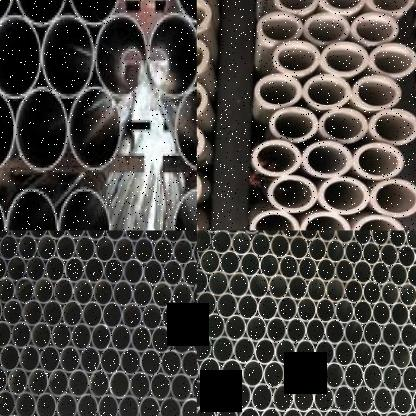pipe: (13, 87, 72, 174), (68, 85, 123, 175), (41, 12, 98, 98), (94, 10, 149, 98), (144, 10, 197, 97), (0, 15, 44, 101), (57, 187, 115, 231), (5, 186, 61, 230), (170, 85, 197, 173), (318, 177, 369, 215), (268, 175, 318, 213), (354, 143, 404, 180), (302, 141, 352, 178), (368, 108, 416, 145), (252, 140, 301, 176), (318, 108, 367, 144), (269, 107, 318, 143), (352, 75, 402, 110), (370, 179, 416, 217), (304, 74, 352, 110), (272, 40, 320, 75), (255, 73, 302, 108), (368, 43, 416, 77), (321, 41, 369, 75), (350, 12, 398, 45), (12, 0, 70, 27), (68, 0, 124, 27), (304, 13, 351, 44), (0, 88, 17, 171), (258, 12, 304, 42), (170, 187, 197, 231), (250, 209, 300, 230), (300, 211, 350, 230), (352, 214, 406, 231), (170, 373, 193, 403), (367, 0, 415, 14), (229, 383, 252, 411), (207, 382, 230, 410), (140, 348, 162, 377), (39, 345, 61, 374), (79, 346, 101, 375), (212, 336, 235, 363), (242, 360, 265, 387), (129, 372, 151, 400), (109, 371, 131, 399), (171, 327, 193, 355), (221, 359, 243, 387), (273, 384, 294, 413), (203, 314, 226, 340), (68, 370, 90, 397), (199, 358, 221, 385), (251, 384, 273, 411), (293, 385, 315, 412), (233, 337, 255, 364), (151, 326, 172, 354), (120, 348, 141, 376), (150, 373, 171, 401), (48, 369, 69, 397), (8, 368, 29, 396), (100, 347, 121, 375), (152, 281, 173, 309), (132, 280, 153, 308), (71, 323, 92, 351), (93, 279, 114, 307), (31, 322, 52, 350), (111, 324, 132, 352), (131, 325, 152, 353), (62, 300, 83, 328), (284, 361, 305, 389), (225, 315, 247, 341), (237, 294, 259, 320), (228, 272, 250, 298), (254, 339, 276, 365), (161, 350, 182, 377), (89, 371, 110, 398), (162, 304, 183, 331), (60, 346, 81, 373), (91, 324, 112, 351), (173, 239, 194, 266), (42, 300, 63, 327), (51, 323, 72, 350), (11, 322, 32, 349), (84, 257, 105, 284), (3, 299, 24, 326), (153, 238, 174, 265), (172, 282, 193, 309), (363, 364, 384, 391), (393, 388, 414, 415), (315, 340, 336, 367), (334, 341, 355, 368), (246, 316, 267, 343), (304, 362, 325, 389), (373, 387, 394, 414), (264, 361, 285, 388), (324, 362, 345, 389), (273, 0, 320, 12), (142, 303, 162, 331), (122, 302, 142, 330), (28, 369, 48, 397), (20, 345, 40, 373), (0, 343, 20, 371), (23, 299, 43, 327), (34, 277, 54, 305), (344, 362, 364, 390), (334, 385, 354, 413), (314, 385, 334, 413), (320, 0, 366, 12), (73, 279, 94, 305), (25, 256, 46, 282), (123, 259, 144, 285), (75, 236, 96, 262), (382, 366, 403, 392), (259, 253, 280, 279), (231, 230, 252, 256), (277, 296, 298, 322), (295, 340, 316, 366), (217, 293, 238, 319), (102, 302, 122, 329), (113, 280, 133, 307), (45, 256, 65, 283), (83, 301, 103, 328), (163, 260, 183, 287), (354, 386, 374, 413), (267, 317, 287, 344), (197, 0, 212, 35), (114, 238, 135, 263), (143, 260, 164, 285), (53, 279, 74, 304), (325, 278, 346, 303), (208, 271, 229, 296), (240, 252, 261, 277), (305, 319, 326, 344), (275, 340, 296, 365), (104, 258, 124, 284), (134, 238, 154, 264), (65, 257, 85, 283), (15, 278, 35, 304), (7, 256, 27, 282), (391, 344, 411, 370), (269, 274, 289, 300), (325, 319, 345, 345), (258, 295, 278, 321), (286, 318, 306, 344), (354, 342, 374, 368), (97, 393, 119, 416), (56, 392, 77, 416), (35, 392, 56, 416), (211, 230, 232, 254), (200, 250, 221, 274), (287, 276, 308, 300), (220, 251, 241, 275), (270, 234, 291, 258), (15, 391, 35, 416), (95, 237, 115, 262), (37, 236, 57, 261), (344, 279, 364, 304), (297, 297, 317, 322), (316, 298, 336, 323), (249, 274, 269, 299), (197, 292, 217, 317), (298, 256, 318, 281), (390, 302, 410, 327), (251, 232, 271, 257), (18, 235, 37, 261), (373, 343, 392, 369), (363, 321, 382, 347), (345, 320, 364, 346), (382, 322, 401, 348), (0, 234, 18, 261), (76, 393, 97, 416), (197, 36, 209, 76), (279, 255, 299, 279), (326, 239, 346, 263), (57, 236, 76, 261), (381, 281, 400, 306), (354, 300, 373, 325), (307, 277, 326, 302), (335, 299, 354, 324), (118, 394, 139, 416), (138, 395, 160, 416), (389, 263, 408, 287), (308, 238, 327, 262), (290, 236, 309, 260), (380, 243, 399, 267), (373, 301, 391, 326), (363, 280, 381, 305), (345, 240, 363, 265), (181, 350, 197, 378), (159, 396, 181, 416), (362, 242, 381, 265), (181, 305, 197, 332), (372, 262, 390, 286), (398, 282, 416, 306), (354, 260, 372, 284), (336, 259, 354, 283), (318, 258, 336, 282), (399, 323, 416, 348), (197, 333, 212, 361), (397, 245, 416, 267), (182, 260, 197, 287), (401, 365, 416, 392), (0, 390, 15, 416), (0, 277, 15, 303), (197, 230, 212, 253), (0, 320, 12, 348), (388, 230, 406, 248), (371, 230, 389, 247), (180, 397, 196, 416), (197, 380, 207, 409), (197, 269, 208, 295), (354, 230, 372, 245), (335, 230, 354, 244), (124, 230, 145, 242), (215, 406, 239, 416), (317, 230, 337, 242), (163, 231, 184, 242), (144, 231, 164, 242), (407, 264, 416, 288), (182, 230, 197, 244), (197, 405, 216, 416), (28, 230, 48, 240), (66, 230, 86, 240), (9, 230, 29, 240), (406, 230, 416, 250), (238, 407, 260, 416), (0, 366, 7, 394), (47, 230, 66, 240), (260, 407, 281, 416), (197, 311, 204, 337), (105, 231, 125, 240), (281, 408, 303, 416), (0, 256, 7, 281), (86, 231, 105, 240), (299, 231, 318, 240), (409, 304, 416, 328), (303, 408, 323, 416), (410, 345, 416, 370), (323, 409, 344, 416), (344, 409, 364, 416), (280, 231, 300, 238), (364, 410, 384, 416), (261, 230, 281, 236), (192, 374, 196, 403), (192, 327, 196, 355), (192, 282, 196, 310), (412, 388, 416, 416), (383, 411, 404, 416), (192, 240, 196, 266), (0, 230, 10, 240), (404, 411, 416, 416), (0, 299, 2, 325), (414, 246, 416, 269)
